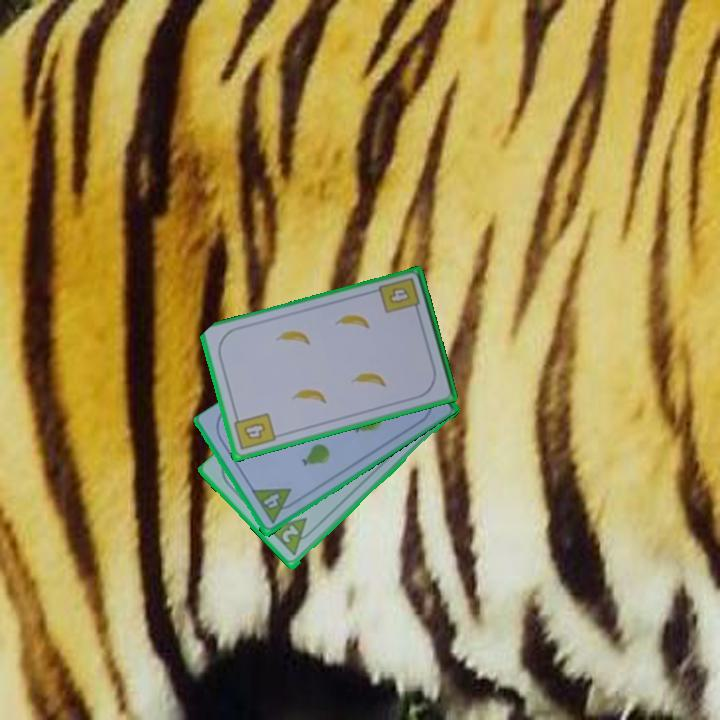2p: (278, 522, 302, 546)
4b: (230, 409, 278, 453), (385, 284, 413, 307)
4p: (248, 485, 300, 527)
